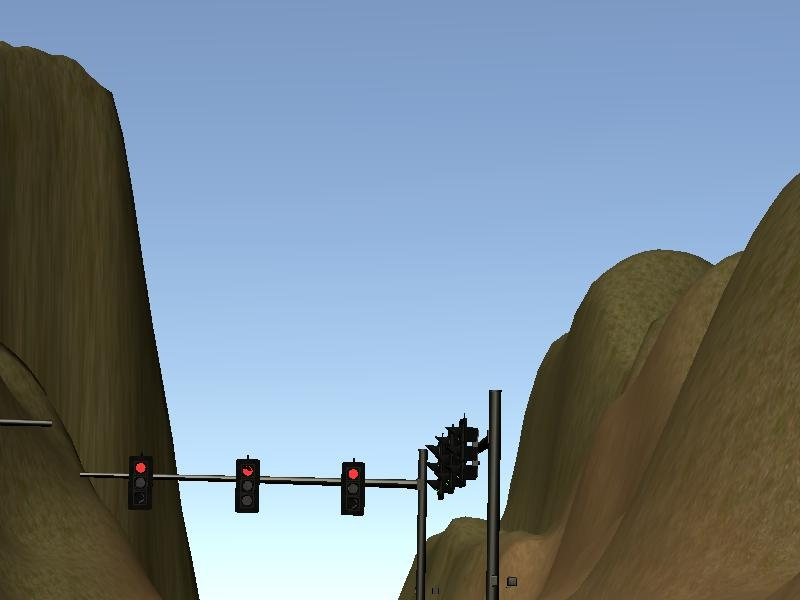traffic_light_red: (104, 451, 417, 517)
